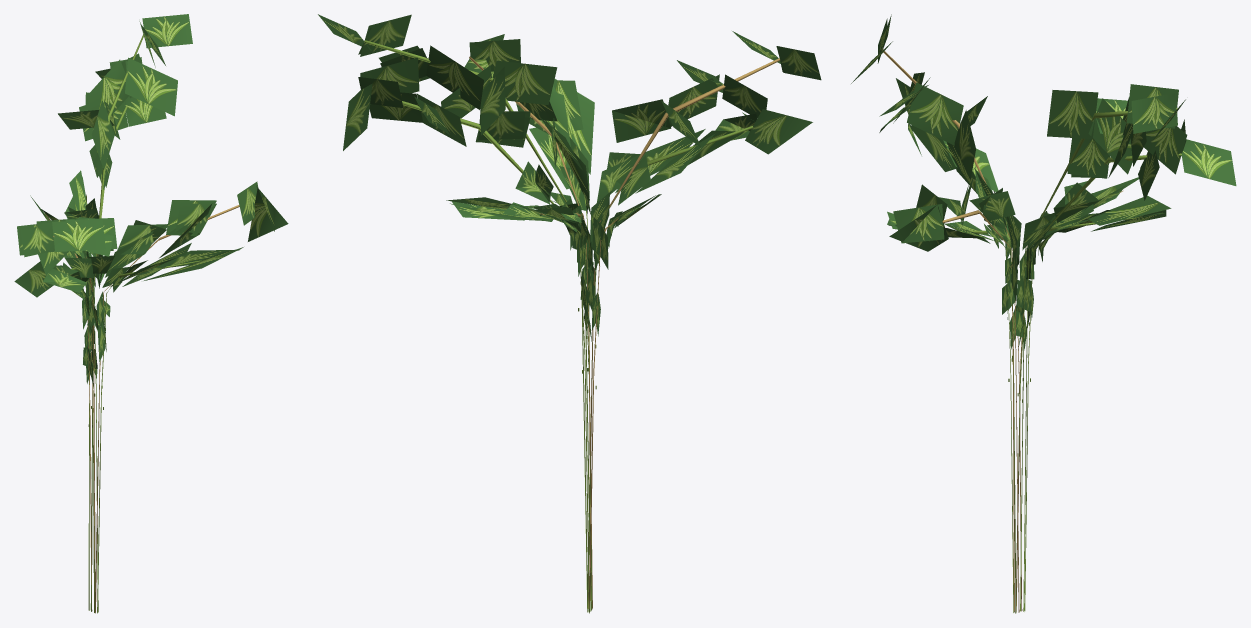
Rendered from tree-vn-bamboo.glb.
3 renders of one model, left to right at view 1: azimuth 30°, elevation 25°; view 2: azimuth 150°, elevation 25°; view 3: azimuth 270°, elevation 25°, orthographic. The views are drawn at different scales.
Parts seen in each view (by area): view 1: tree-vn-bamboo; view 2: tree-vn-bamboo; view 3: tree-vn-bamboo.
Part boxes in pixels (x1,y1,x2,y2): tree-vn-bamboo: [14, 14, 288, 613]; tree-vn-bamboo: [318, 14, 821, 613]; tree-vn-bamboo: [851, 14, 1236, 613].
Size of the model in its own units: 4.82 by 8 by 4.77.
4 materials, 1 textured.
